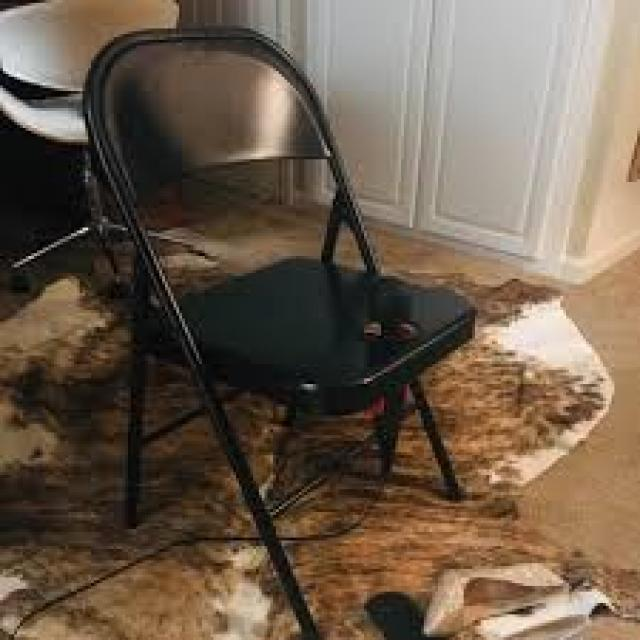chair: (84, 25, 474, 563)
